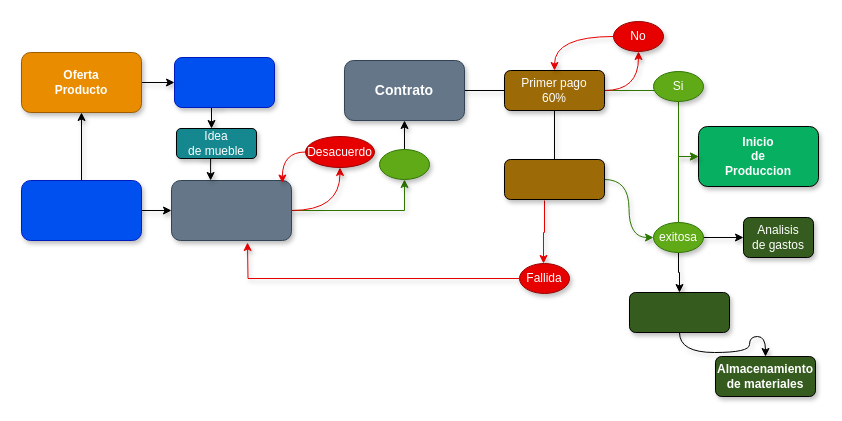
Some shapes in this 842 by 421 pixel diagram are drawn without their labels. The centre of each missing label's shape, as x and y in pixels:
Acuerdo: point (405, 165)
Cliente: point (225, 83)
Compra de materiales: point (555, 180)
Oferta y Negociacion (Cotizacion): point (232, 212)
Soluciones Mobiliarias MB: point (82, 212)
Transporte (gasolina): point (680, 314)
